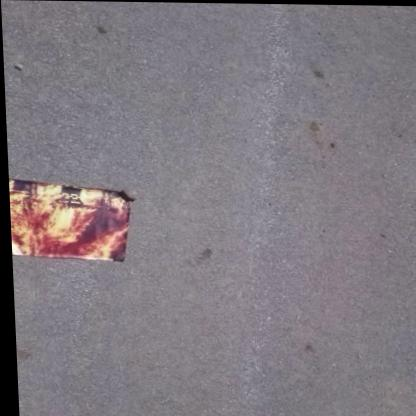fire-poster: (7, 177, 136, 263)
